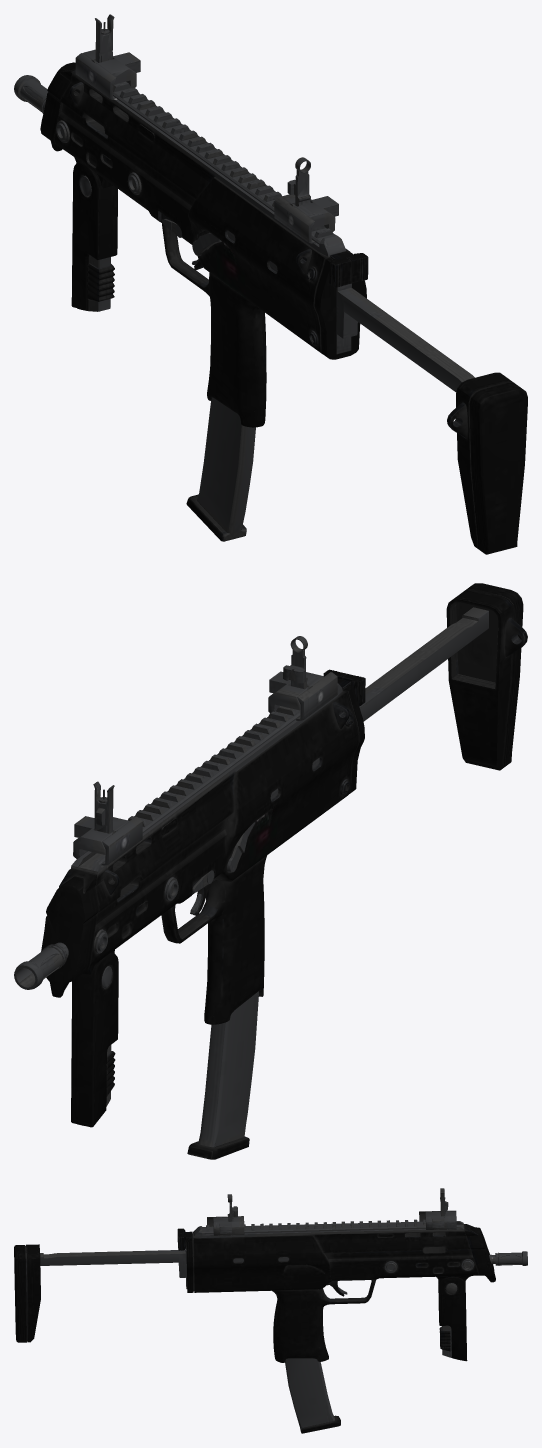
The picture shows the model from 3 angles, top to bottom: view 1: azimuth 30°, elevation 25°; view 2: azimuth 150°, elevation 25°; view 3: azimuth 270°, elevation 25°; orthographic projection. The views are drawn at different scales.
Parts seen in each view (by area): view 1: body, mag; view 2: body, mag; view 3: body, mag.
Boxes of the visible parts, x1,y1,x2,y2 form: body: (14,14,527,554); mag: (186,397,259,541); body: (14,583,527,1127); mag: (187,991,262,1159); body: (14,1188,527,1362); mag: (285,1358,340,1433).
Bounding box in the file's own units: 0.0537 × 0.3276 × 0.638.
1 material, 1 textured.
